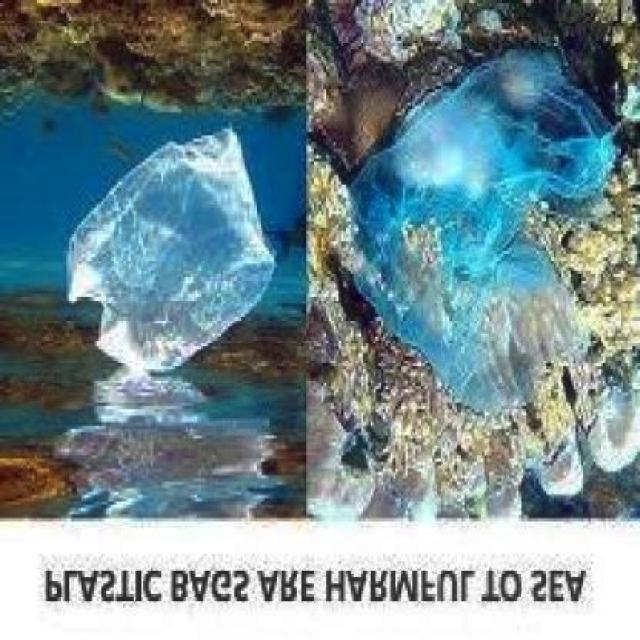pbag: (344, 52, 613, 403), (63, 126, 274, 377)
